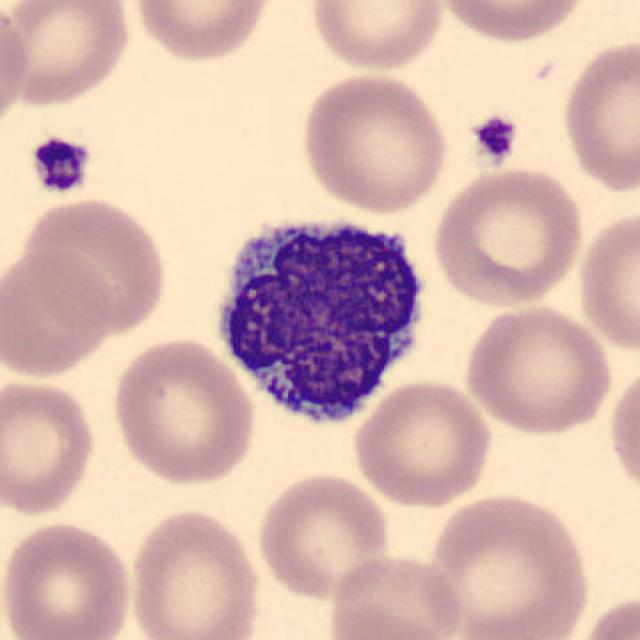Lymphocyte: (206, 199, 439, 439)
Platelets: (27, 134, 94, 197), (469, 111, 519, 168)
RBC: (423, 490, 596, 640), (428, 162, 586, 310), (106, 335, 258, 487), (297, 69, 451, 215), (14, 194, 171, 337), (461, 302, 615, 438), (124, 504, 265, 640), (252, 469, 394, 603), (350, 378, 494, 510), (0, 518, 137, 640), (0, 245, 116, 381), (0, 0, 135, 109), (0, 374, 100, 520), (556, 34, 638, 195), (324, 550, 466, 640), (304, 0, 448, 74), (574, 205, 640, 356), (128, 0, 277, 65), (434, 0, 590, 46), (606, 360, 640, 500), (0, 5, 32, 136), (572, 589, 640, 640)
